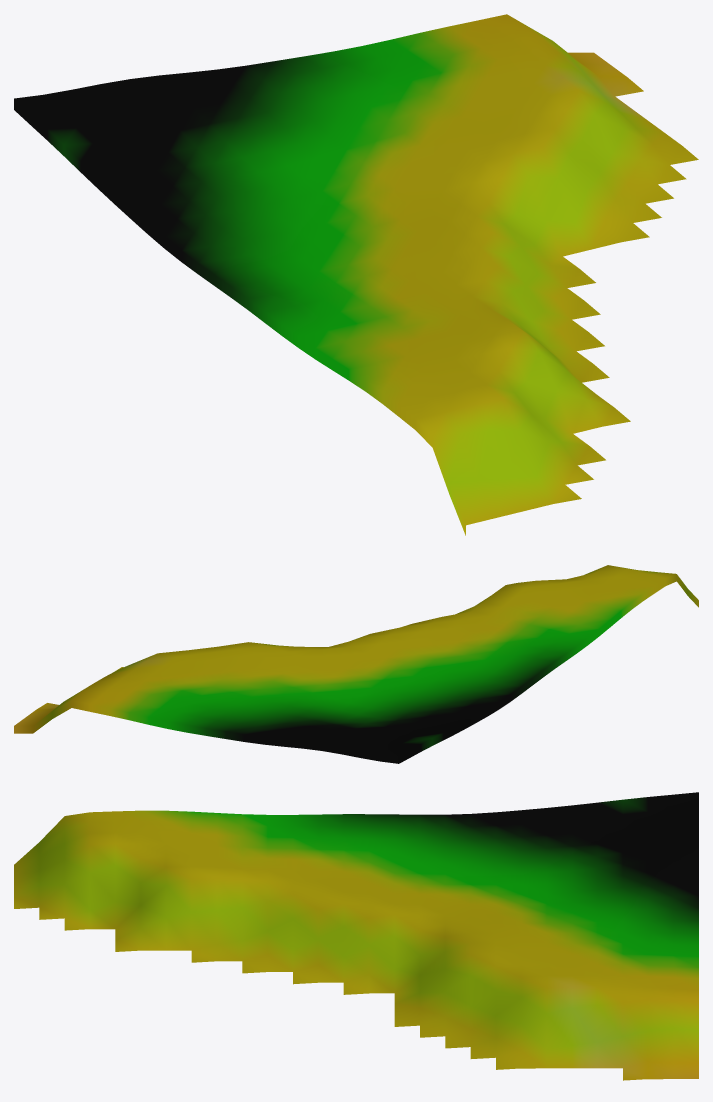
The model's file is coast_14_14.glb.
3 views of the same model, one above another, from view 1: azimuth 30°, elevation 25°; view 2: azimuth 150°, elevation 25°; view 3: azimuth 270°, elevation 25° (orthographic). The views are drawn at different scales.
Visible parts, largest first — view 1: terrain; view 2: terrain; view 3: terrain.
Boxes of the visible parts, box(x1,y1,x2,y2) form: terrain: box(14, 14, 698, 535); terrain: box(14, 565, 698, 763); terrain: box(14, 792, 698, 1080).
Bounding box in the file's own units: 80 × 14.13 × 108.
